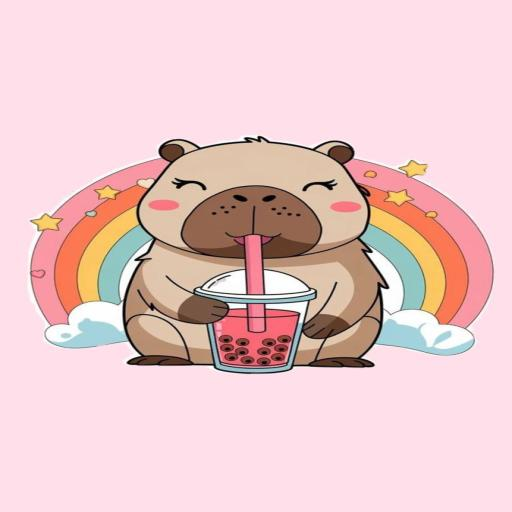capibara: (96, 123, 444, 380)
